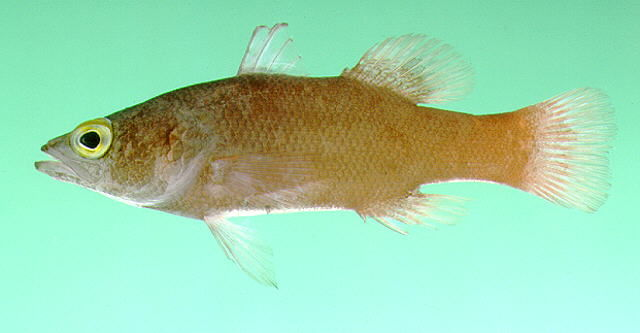fish: (34, 22, 618, 290)
